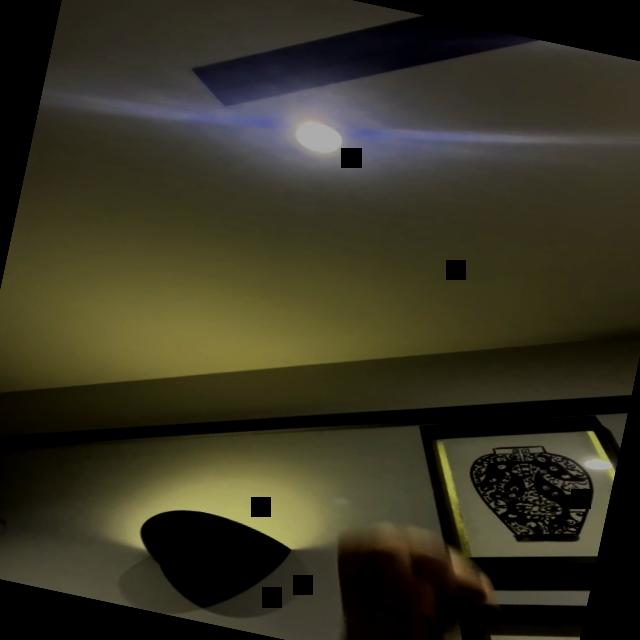Rock: (330, 516, 508, 636)
